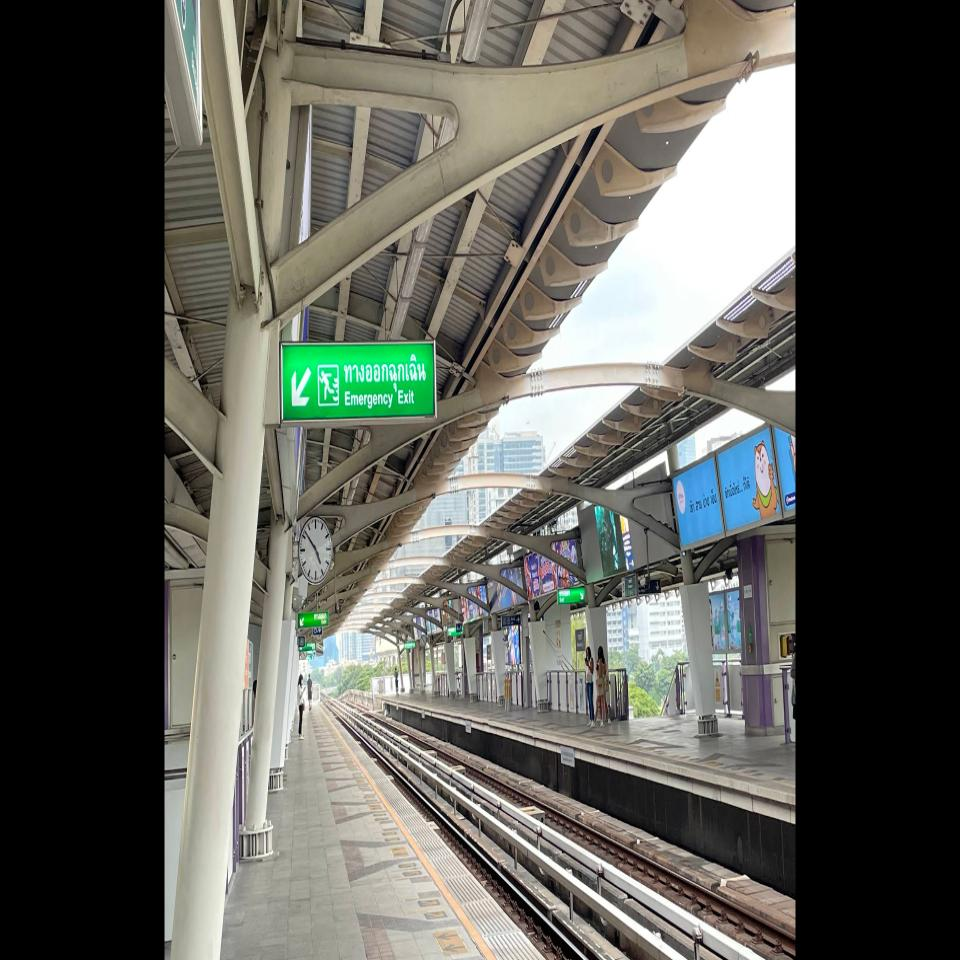signage: (575, 628, 586, 652)
